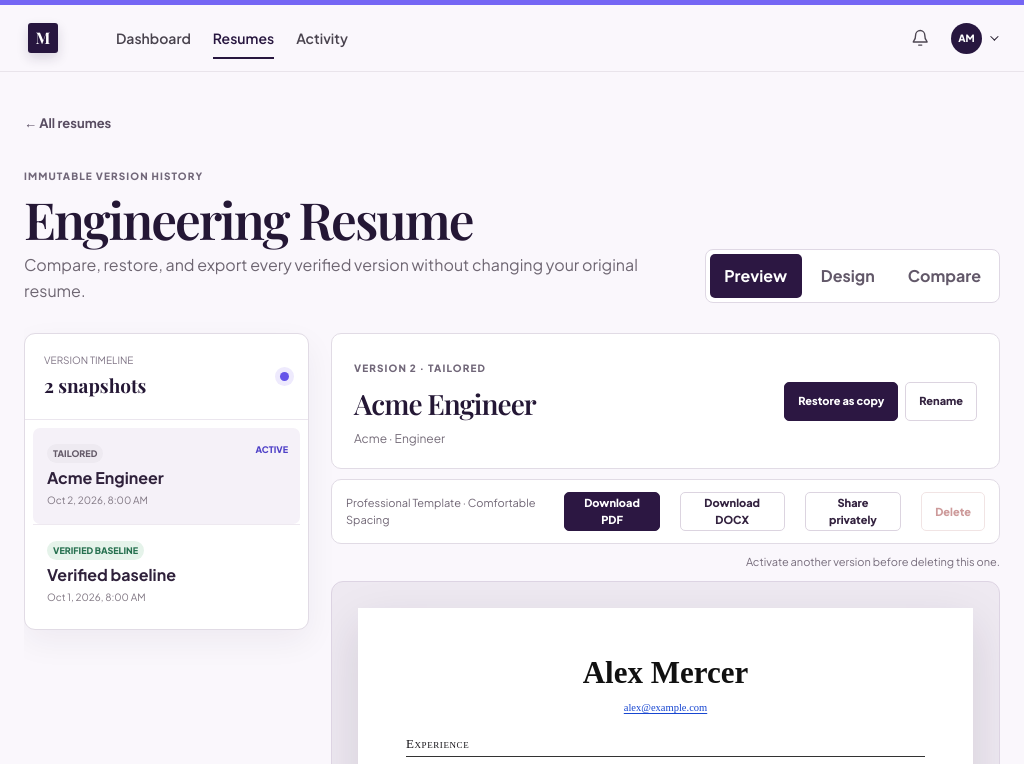
Test: ResumeVersionHistoryPage › previews the active version and compares exact claim changes
The image size is (1024, 764).
Expected: the heading "Alex Mercer" is shown, [583,655,748,690]
Expected: the text "Active" is shown, [256,443,288,456]
Click the button "Compare" at (944, 276), box [894,254,995,298]
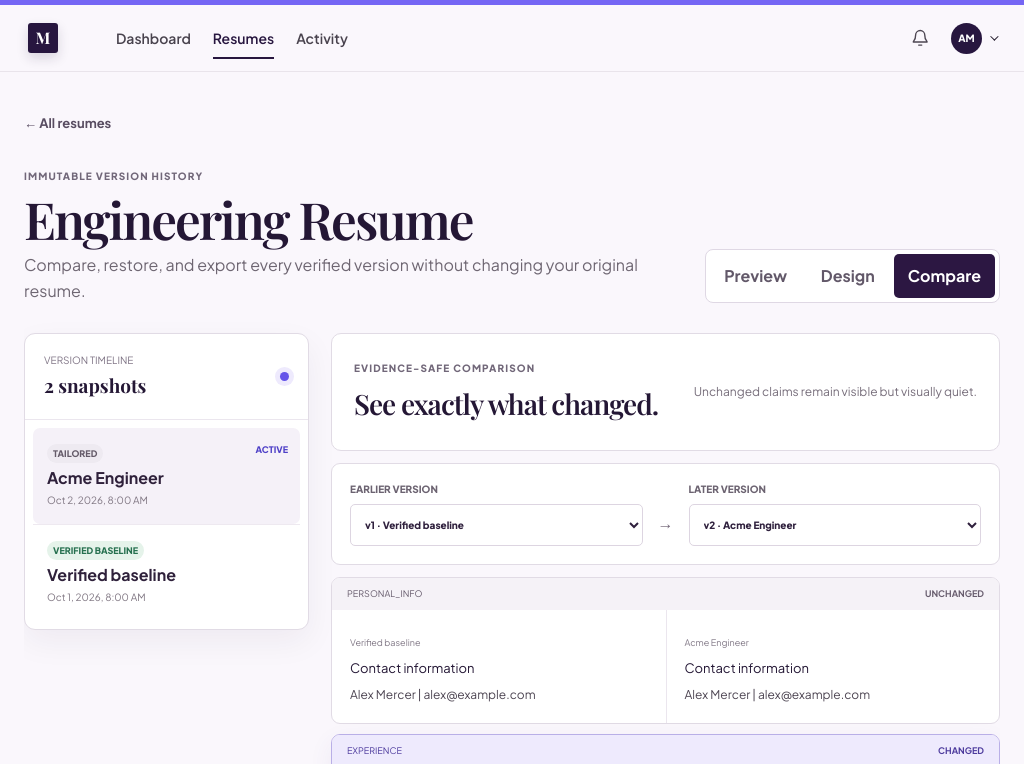
Expected: the heading "See exactly what changed." is shown, [354,383,658,425]
Expected: the text "Changed" is shown, [938,744,984,757]
